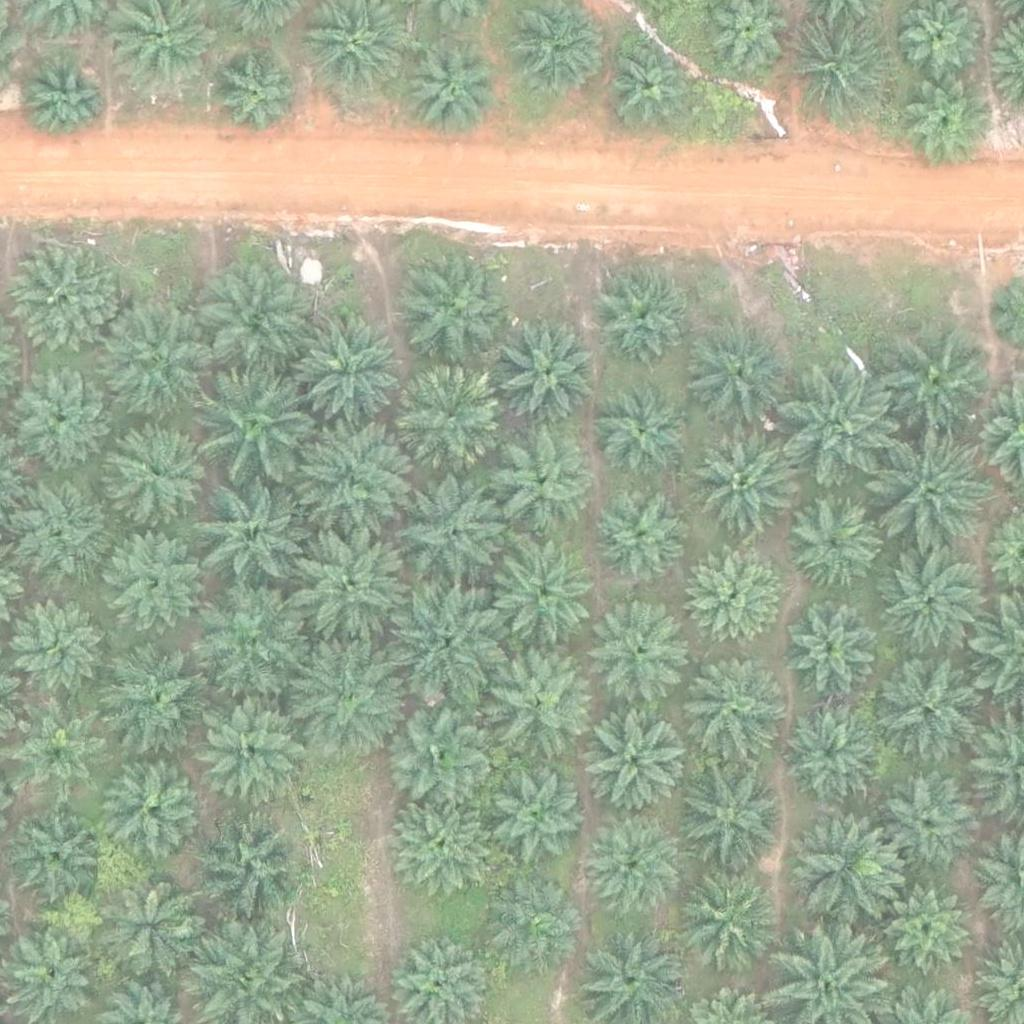Kelapa_Sawit: (397, 250, 510, 364), (295, 314, 408, 428), (295, 523, 408, 637), (194, 583, 307, 697), (781, 369, 894, 482), (867, 426, 980, 539), (868, 661, 981, 774), (480, 641, 593, 754), (389, 578, 502, 691), (393, 364, 506, 477), (291, 428, 404, 541), (288, 642, 401, 755), (201, 365, 314, 478), (99, 639, 212, 752), (8, 246, 121, 359), (785, 12, 898, 125), (685, 319, 797, 433), (482, 430, 594, 544), (396, 474, 508, 588), (105, 303, 217, 417), (789, 810, 901, 923), (881, 325, 993, 438), (201, 703, 313, 816), (195, 478, 307, 591), (199, 266, 311, 379), (189, 806, 301, 919), (779, 700, 879, 801), (683, 656, 783, 757), (685, 769, 785, 870), (677, 872, 777, 973), (579, 816, 679, 917), (586, 709, 686, 810), (592, 268, 692, 369), (875, 543, 975, 644), (877, 775, 977, 876), (495, 326, 595, 427), (493, 546, 593, 647), (485, 875, 585, 976), (390, 703, 490, 804), (107, 419, 207, 520), (107, 765, 207, 866), (103, 876, 203, 977), (10, 800, 110, 901), (4, 592, 104, 693), (9, 360, 109, 461), (402, 43, 502, 144), (694, 438, 794, 538), (682, 550, 782, 650), (593, 603, 693, 703), (590, 487, 690, 587), (593, 382, 693, 482), (486, 766, 586, 866), (394, 794, 494, 894), (106, 530, 206, 630), (9, 699, 109, 799), (895, 76, 995, 176), (883, 890, 971, 978), (780, 608, 868, 696), (214, 57, 302, 145), (606, 40, 693, 129), (790, 495, 877, 583), (21, 57, 108, 145)
